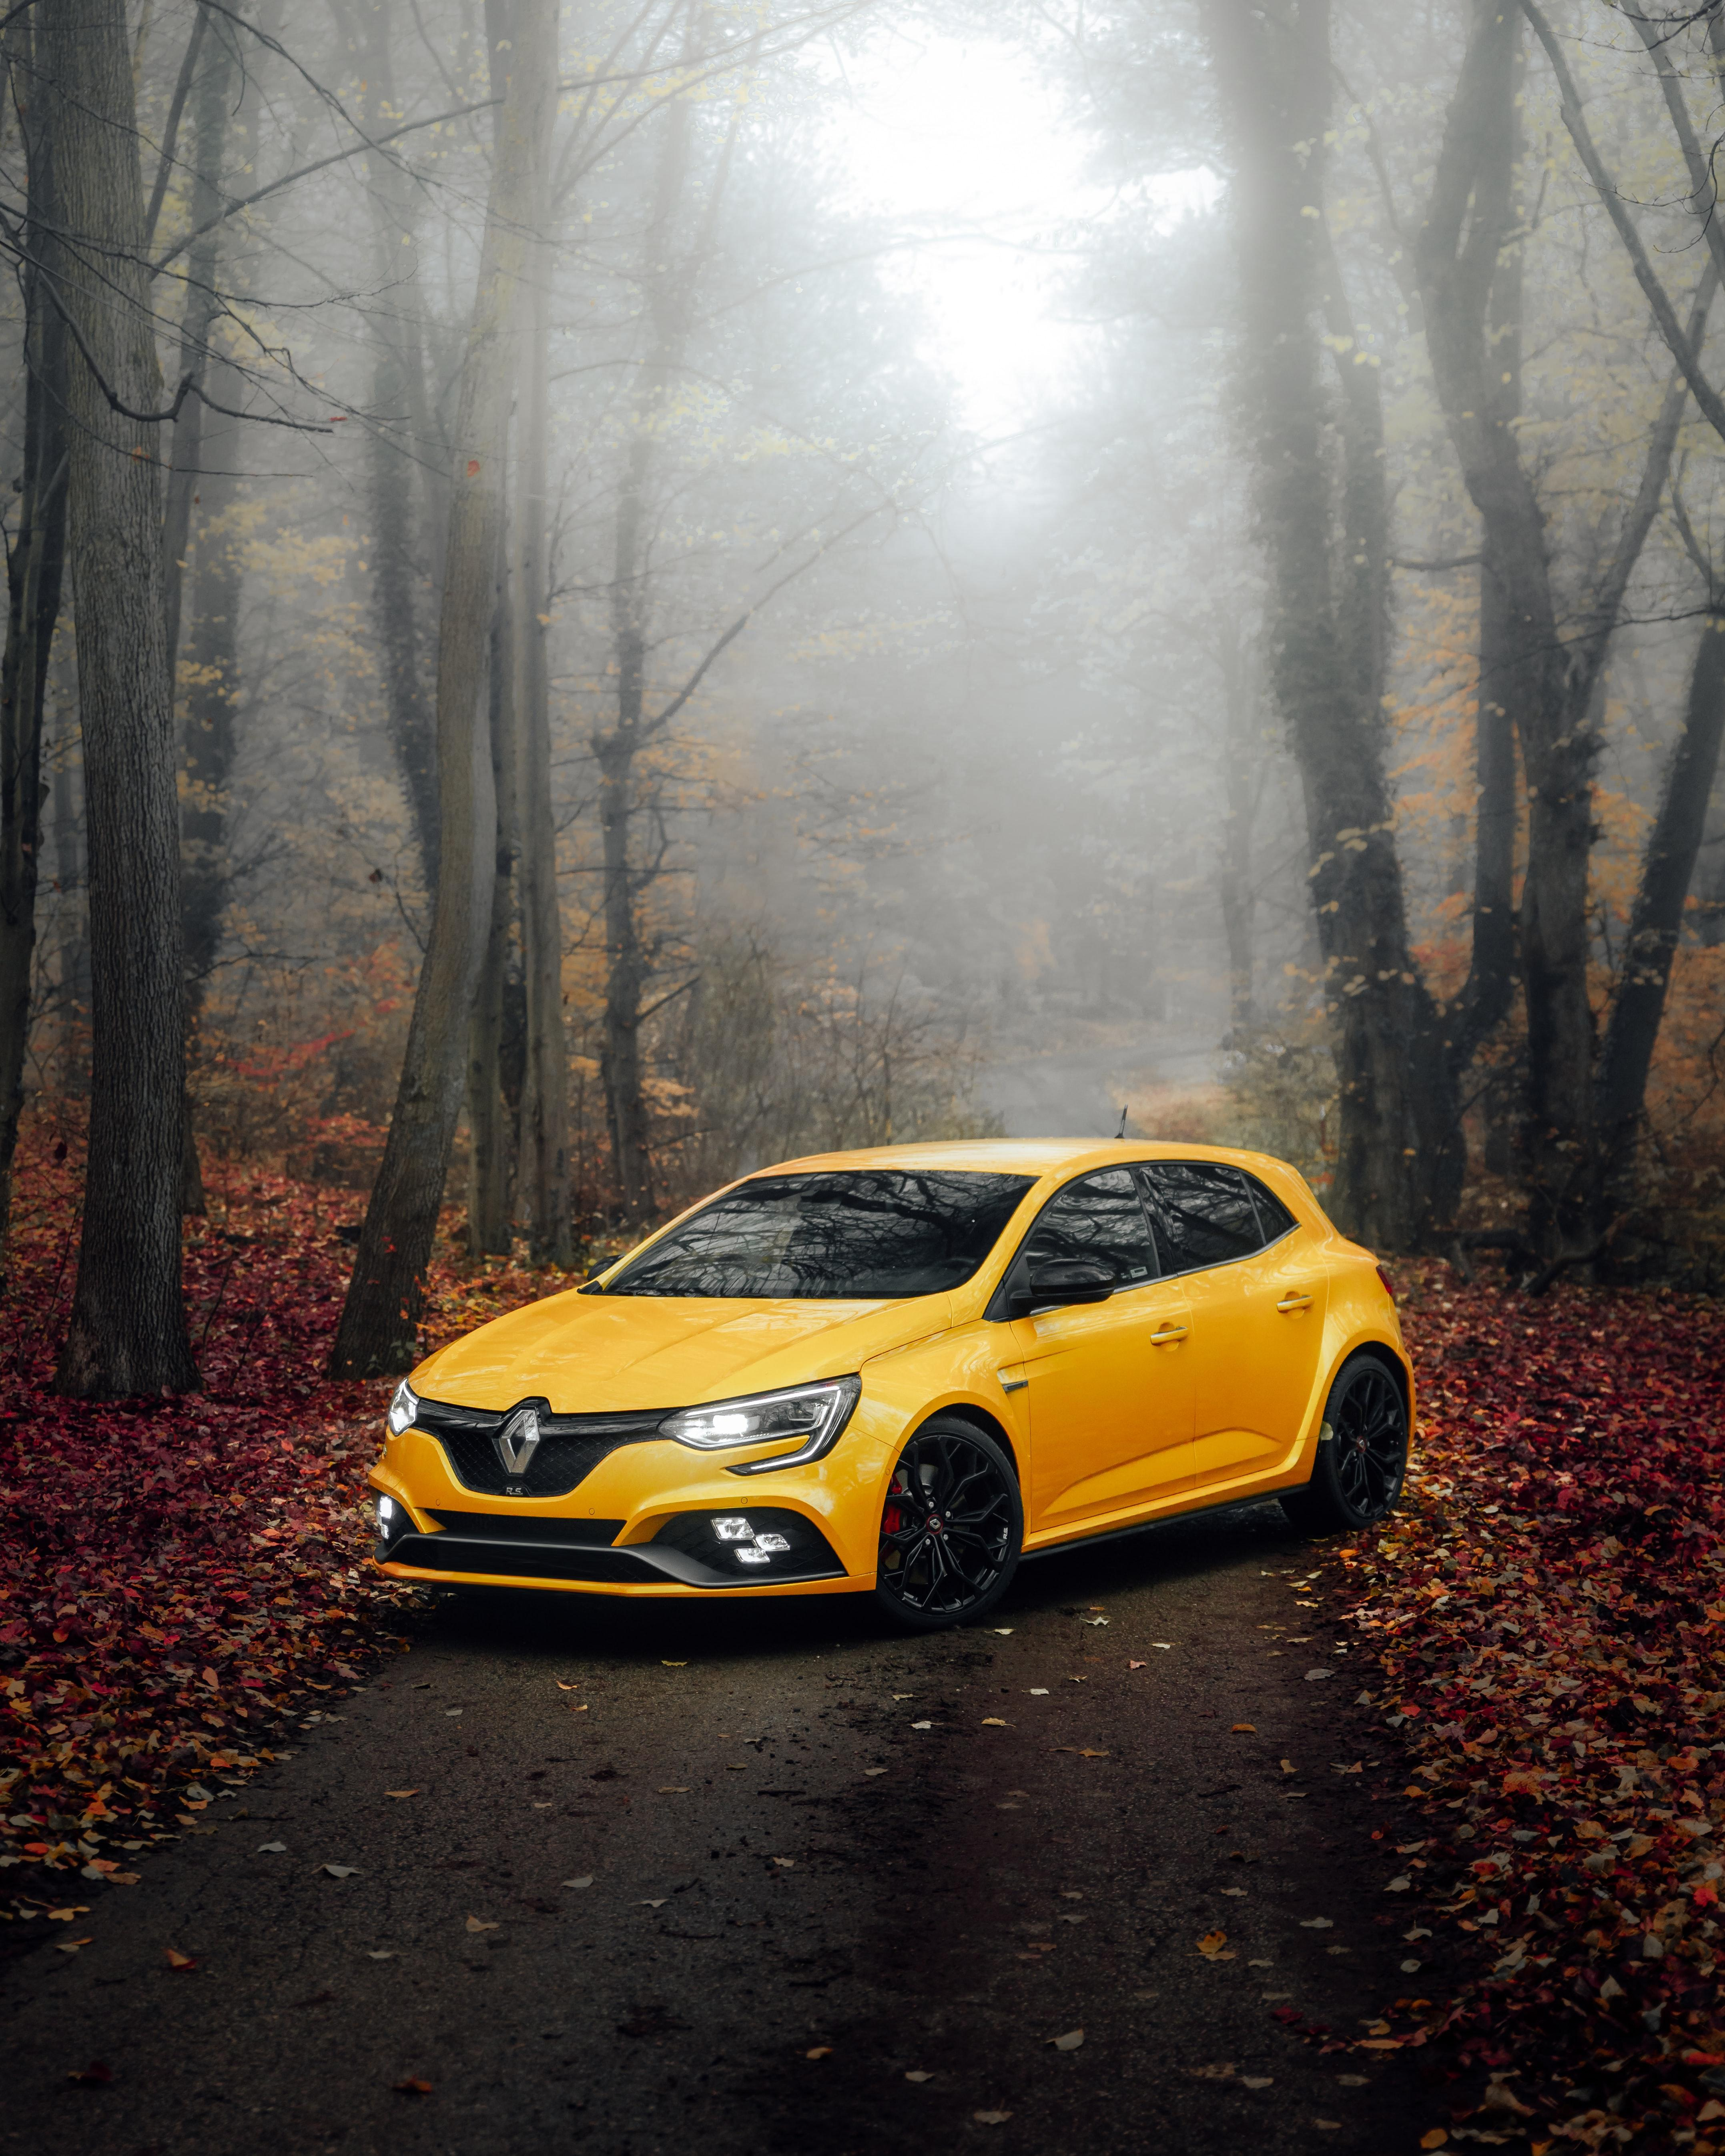Renault: (463, 1382, 574, 1498)
